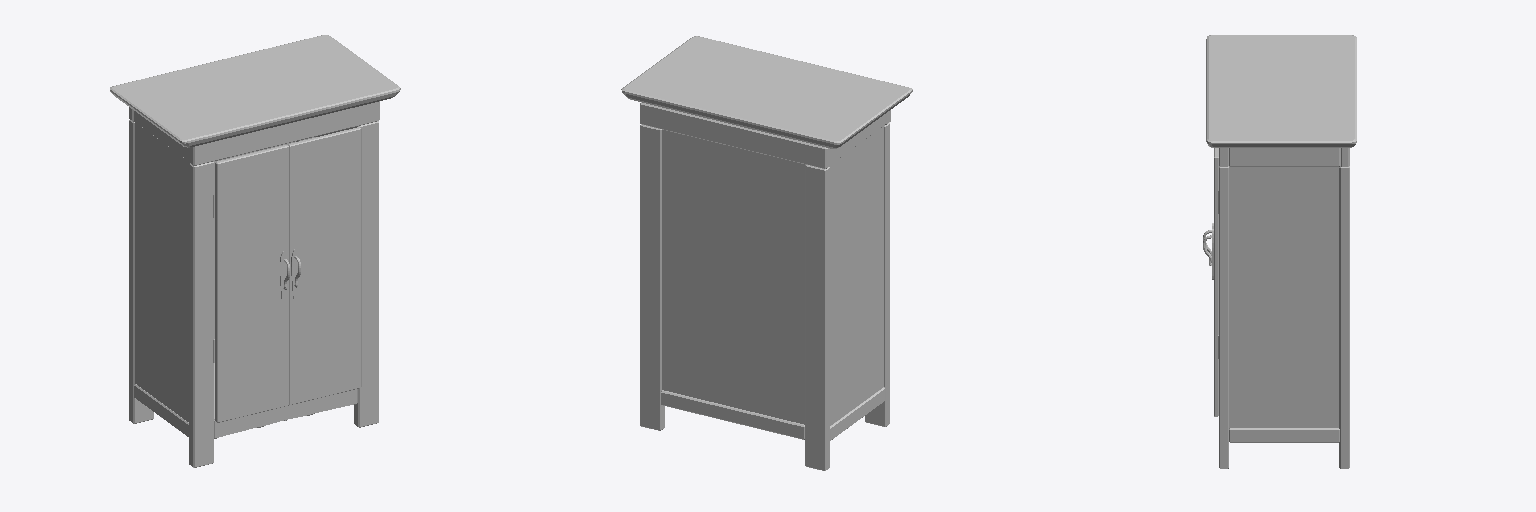
Rendered from wardrobe.obj.
The picture shows the model from 3 angles: view 1: azimuth 30°, elevation 25°; view 2: azimuth 150°, elevation 25°; view 3: azimuth 270°, elevation 25°; orthographic projection.
Visible parts, largest first — view 1: Cube.018_Cube.019, Cube.019_Cube.021, Cube.017_Cube.018, Cube.013_Cube.014, Cube_Cube.001, Cube.001_Cube.002, Cube.004_Cube.005, Cube.002_Cube.003, Cube.008_Cube.009, Cube.010_Cube.011, Cube.006_Cube.007; view 2: Cube.014_Cube.015, Cube.017_Cube.018, Cube.013_Cube.014, Cube.002_Cube.003, Cube.003_Cube.004, Cube.005_Cube.006, Cube.009_Cube.010, Cube_Cube.001, Cube.010_Cube.011, Cube.006_Cube.007; view 3: Cube.012_Cube.013, Cube.017_Cube.018, Cube.003_Cube.004, Cube.001_Cube.002, Cube.007_Cube.008, Cube.011_Cube.022, Cube.019_Cube.021.
Boxes of the visible parts, <box> form: Cube.018_Cube.019: <box>215,145,288,422</box>; Cube.019_Cube.021: <box>288,127,361,404</box>; Cube.017_Cube.018: <box>110,35,400,147</box>; Cube.013_Cube.014: <box>135,122,189,421</box>; Cube_Cube.001: <box>189,162,213,467</box>; Cube.001_Cube.002: <box>354,121,378,427</box>; Cube.004_Cube.005: <box>189,101,379,165</box>; Cube.002_Cube.003: <box>129,120,153,423</box>; Cube.008_Cube.009: <box>214,389,357,438</box>; Cube.010_Cube.011: <box>134,384,188,436</box>; Cube.006_Cube.007: <box>134,111,188,160</box>; Cube.014_Cube.015: <box>662,130,804,424</box>; Cube.017_Cube.018: <box>621,36,912,148</box>; Cube.013_Cube.014: <box>829,125,884,425</box>; Cube.002_Cube.003: <box>805,165,829,470</box>; Cube.003_Cube.004: <box>640,124,664,430</box>; Cube.005_Cube.006: <box>640,102,829,168</box>; Cube.009_Cube.010: <box>661,390,804,439</box>; Cube_Cube.001: <box>865,122,889,426</box>; Cube.010_Cube.011: <box>830,387,884,440</box>; Cube.006_Cube.007: <box>830,114,884,164</box>; Cube.012_Cube.013: <box>1229,166,1340,427</box>; Cube.017_Cube.018: <box>1206,35,1356,147</box>; Cube.003_Cube.004: <box>1339,166,1349,468</box>; Cube.001_Cube.002: <box>1219,166,1228,468</box>; Cube.007_Cube.008: <box>1229,148,1340,166</box>; Cube.011_Cube.022: <box>1229,428,1339,442</box>; Cube.019_Cube.021: <box>1214,148,1218,416</box>.
Size of the model in its own units: 2.11 by 3.08 by 1.28.